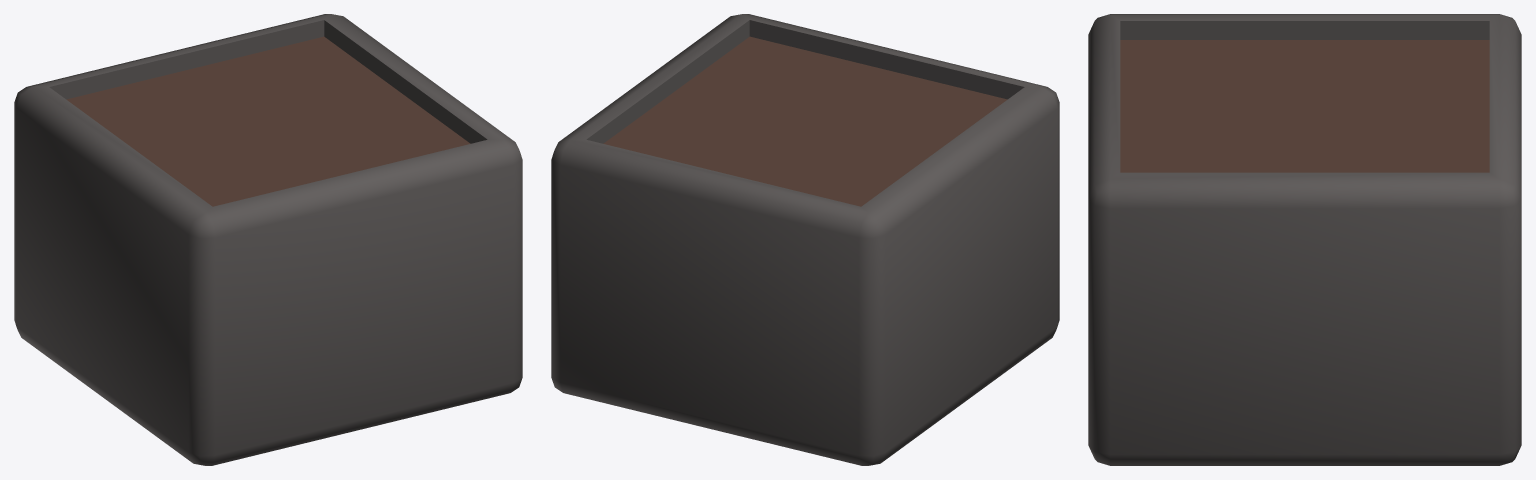
Rendered from plantPot04.fbx.
The picture shows the model from 3 angles, left to right: view 1: azimuth 30°, elevation 25°; view 2: azimuth 150°, elevation 25°; view 3: azimuth 270°, elevation 25°; orthographic projection. The views are drawn at different scales.
Visible parts, largest first — view 1: plantPot04; view 2: plantPot04; view 3: plantPot04.
Part boxes in pixels (left/top/right/bottom): plantPot04: left=14, top=14, right=522, bottom=465; plantPot04: left=551, top=14, right=1059, bottom=465; plantPot04: left=1088, top=14, right=1521, bottom=465.
Size of the model in its own units: 200 by 146 by 200.
